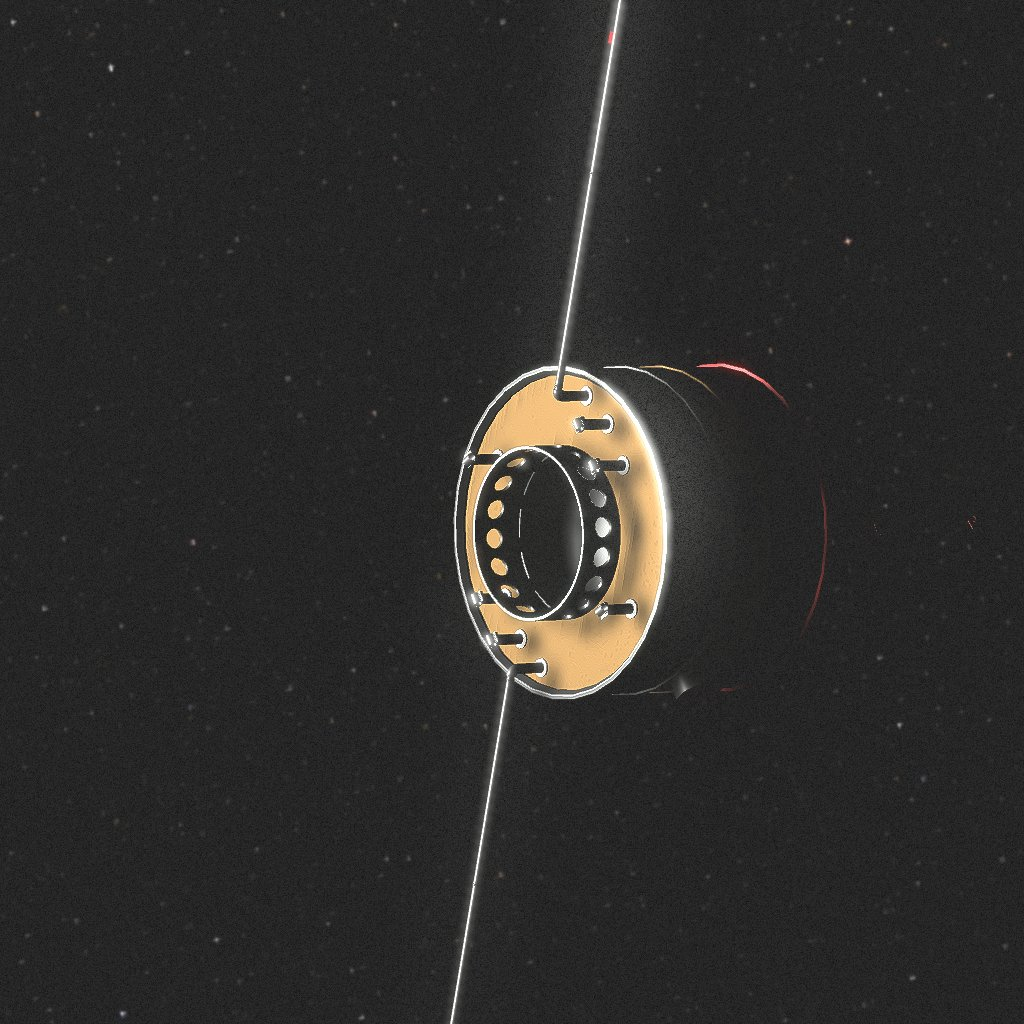double_star: (450, 0, 976, 1024)
